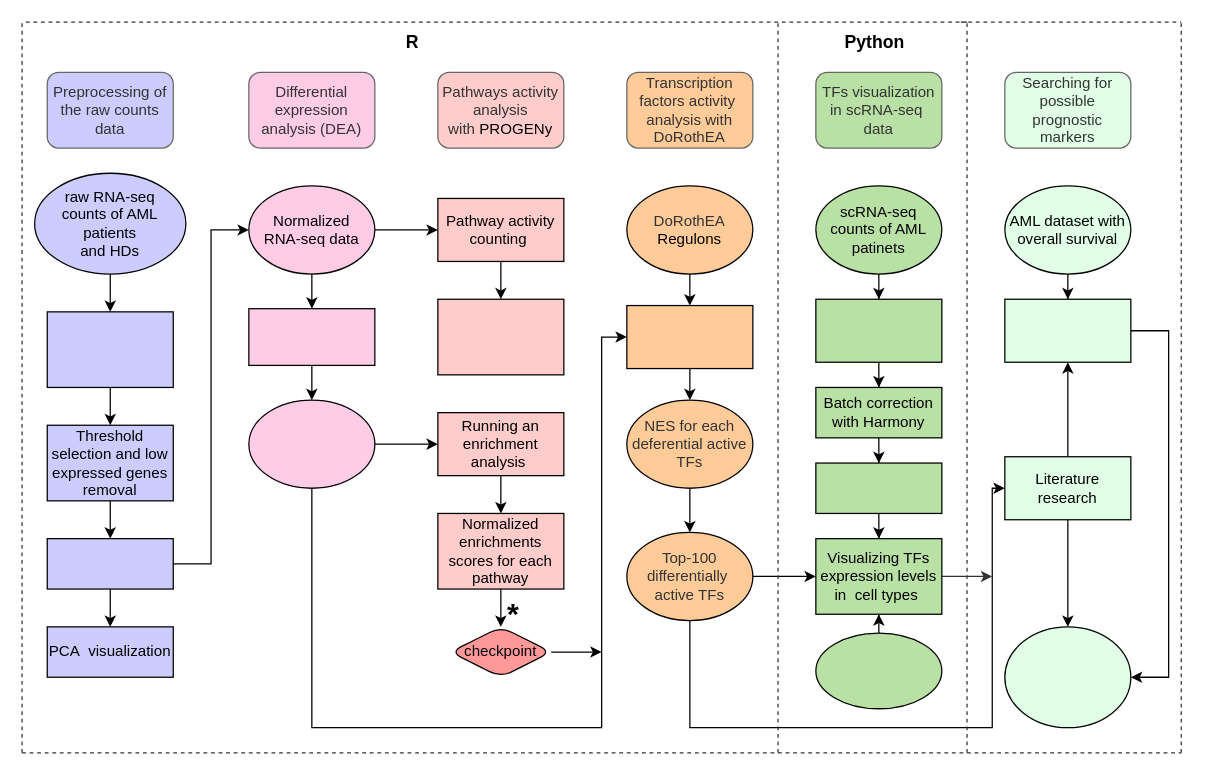
Image size: 1205x776. Some labels were removed from this diagram. Here are the shapes that lost their labels. From the top down, the centre of each, then its label:
At point 109,349: "Visualizing log-transformed count data with violin plots".
At point 311,336: "DEA with limma package".
At point 500,336: "Visualization pathway activity on heatmap".
At point 689,336: "Running DoRothEA".
At point 878,330: "Quality control and filtering with Scanpy".
At point 1067,330: "Kaplan-Meier Survival Analysis".
At point 311,443: "Table with DEA statistics".
At point 878,487: "Running UMAP and clustering".
At point 109,563: "VSN normalization".
At point 878,670: "Cells types annotation".
At point 1067,677: "Providing possible prognostic markers".
